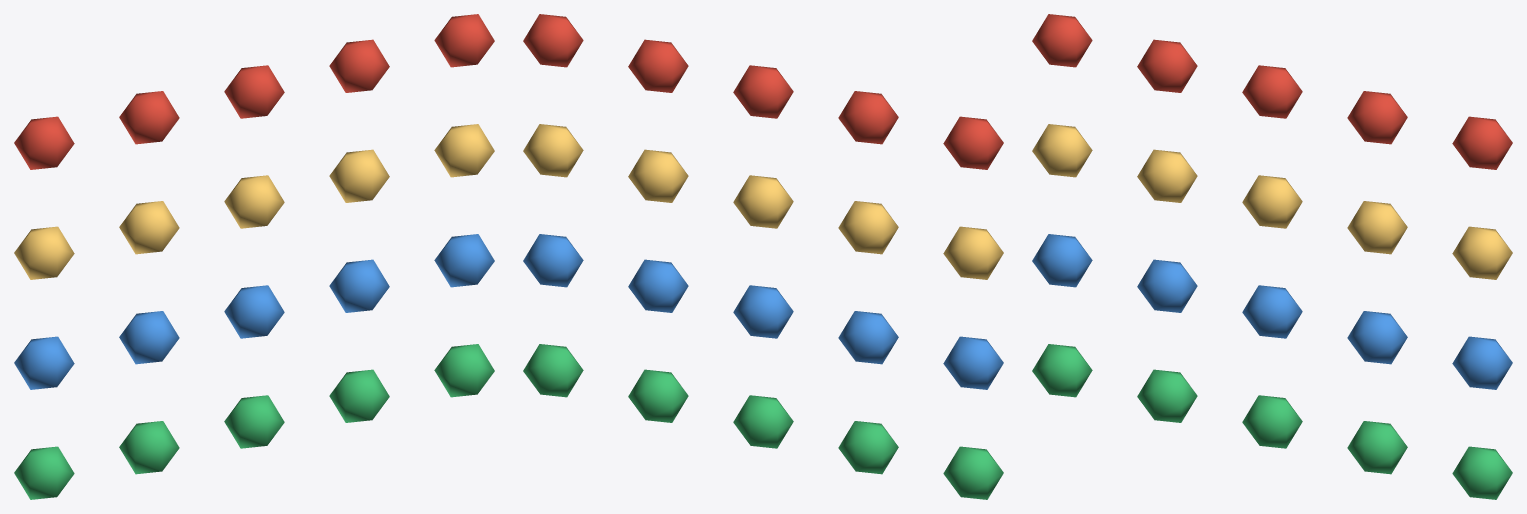
File: M01MaterialGrid.gltf
The picture shows the model from 3 angles, left to right: view 1: azimuth 30°, elevation 25°; view 2: azimuth 150°, elevation 25°; view 3: azimuth 330°, elevation 25°; orthographic projection.
Visible parts, largest first — view 1: DielectricR20, MetalR20, Ior180, Clearcoat075, DielectricR40, Clearcoat050, DielectricR65, MetalR40, MetalR65, MetalR90, Ior100, Ior133 (+8 smaller); view 2: DielectricR20, MetalR20, Ior180, Clearcoat075, DielectricR40, Clearcoat050, DielectricR65, MetalR40, MetalR65, MetalR90, Ior100, Ior133 (+8 smaller); view 3: DielectricR65, MetalR65, Ior133, Clearcoat025, DielectricR40, Clearcoat050, DielectricR20, MetalR04, MetalR20, MetalR40, Ior150, Ior180 (+8 smaller).
Part boxes in pixels (box(x1,y1,x2,y2)): DielectricR20: box(119, 91, 179, 144); MetalR20: box(119, 201, 179, 254); Ior180: box(329, 259, 389, 312); Clearcoat075: box(329, 369, 389, 422); DielectricR40: box(224, 65, 284, 118); Clearcoat050: box(224, 395, 284, 448); DielectricR65: box(329, 39, 389, 92); MetalR40: box(224, 175, 284, 228); MetalR65: box(329, 149, 389, 202); MetalR90: box(434, 124, 494, 177); Ior100: box(14, 336, 74, 389); Ior133: box(119, 311, 179, 364); DielectricR20: box(838, 91, 898, 144); MetalR20: box(838, 201, 898, 254); Ior180: box(628, 259, 688, 312); Clearcoat075: box(628, 369, 688, 422); DielectricR40: box(733, 65, 793, 118); Clearcoat050: box(733, 395, 793, 448); DielectricR65: box(628, 39, 688, 92); MetalR40: box(733, 175, 793, 228); MetalR65: box(628, 149, 688, 202); MetalR90: box(523, 124, 583, 177); Ior100: box(943, 336, 1003, 389); Ior133: box(838, 311, 898, 364); DielectricR65: box(1347, 91, 1407, 144); MetalR65: box(1347, 201, 1407, 254); Ior133: box(1137, 259, 1197, 312); Clearcoat025: box(1137, 369, 1197, 422); DielectricR40: box(1242, 65, 1302, 118); Clearcoat050: box(1242, 395, 1302, 448); DielectricR20: box(1137, 39, 1197, 92); MetalR04: box(1032, 124, 1092, 177); MetalR20: box(1137, 149, 1197, 202); MetalR40: box(1242, 175, 1302, 228); Ior150: box(1242, 285, 1302, 338); Ior180: box(1347, 311, 1407, 364).
Bounding box in the file's own units: 8.85 × 6.85 × 0.8507.
